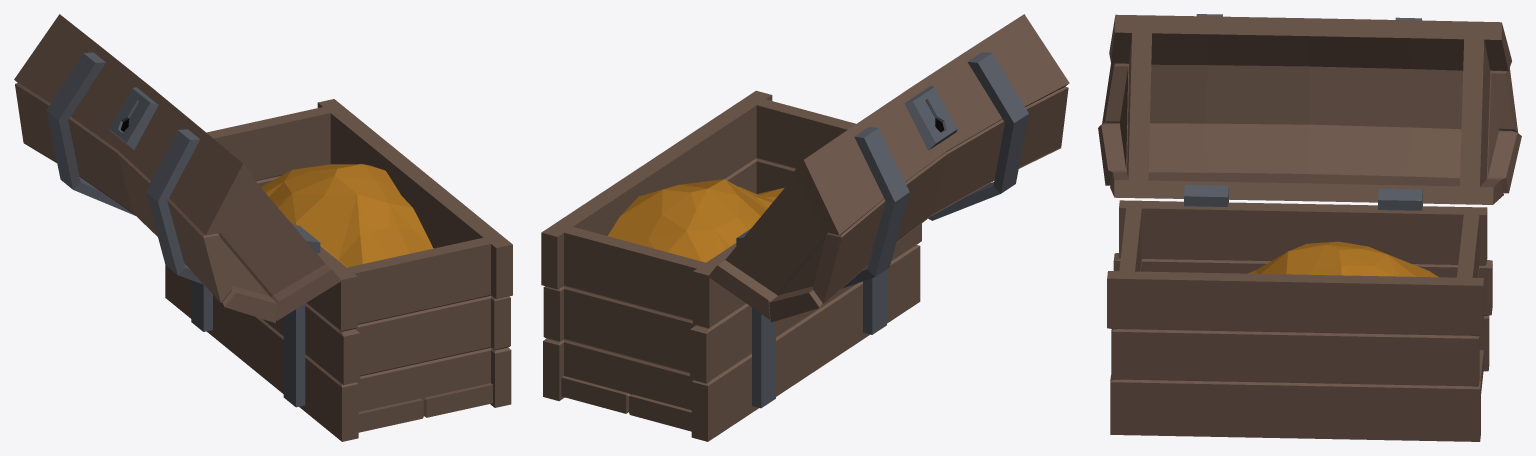
Rendered from OpenChestGold.fbx.
The picture shows the model from 3 angles, left to right: view 1: azimuth 30°, elevation 25°; view 2: azimuth 150°, elevation 25°; view 3: azimuth 270°, elevation 25°; orthographic projection. The views are drawn at different scales.
Visible parts, largest first — view 1: OpenChestGold; view 2: OpenChestGold; view 3: OpenChestGold.
Part boxes in pixels (left/top/right/bottom): OpenChestGold: left=14, top=14, right=512, bottom=441; OpenChestGold: left=541, top=14, right=1069, bottom=441; OpenChestGold: left=1098, top=14, right=1521, bottom=441.
Size of the model in its own units: 0.8386 by 0.9749 by 0.7489.
